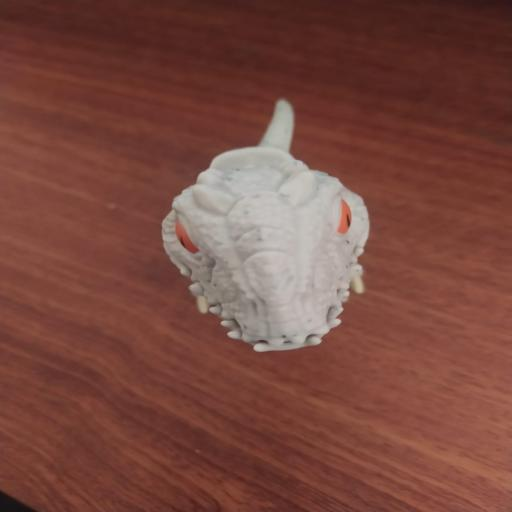Dinosaurio: (150, 92, 382, 358)
